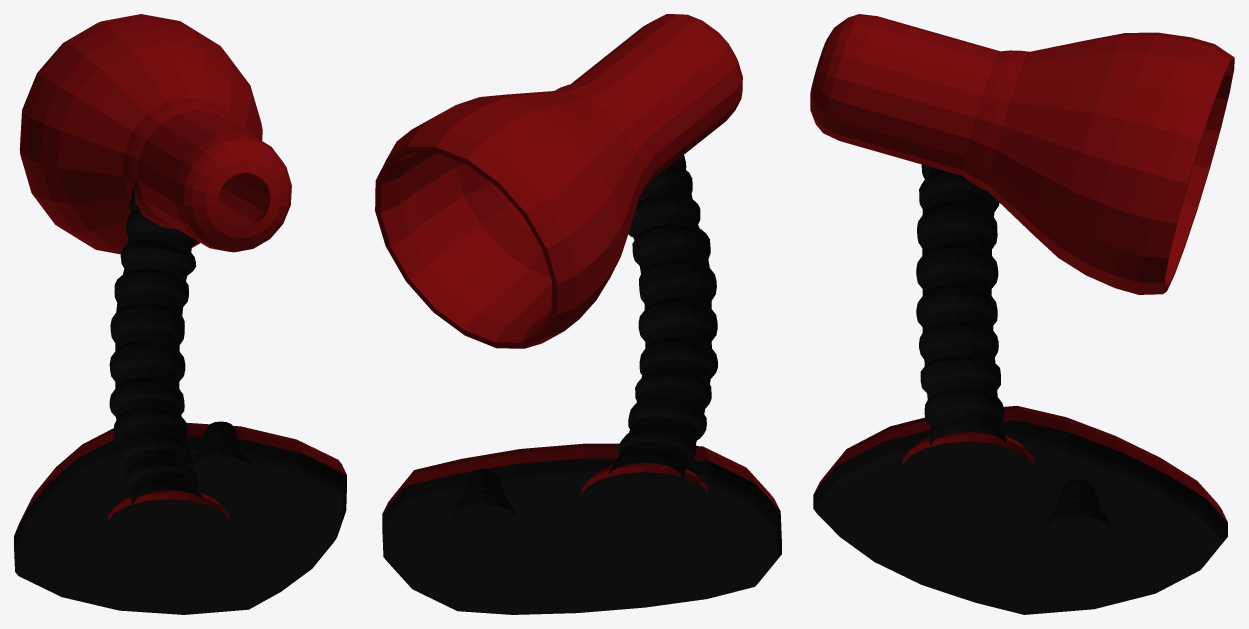
File: lamp.fbx
3 views of the same model, side by side, from view 1: azimuth 30°, elevation 25°; view 2: azimuth 150°, elevation 25°; view 3: azimuth 270°, elevation 25° (orthographic). The views are drawn at different scales.
Visible parts, largest first — view 1: lamp 2, lamp; view 2: lamp 2, lamp; view 3: lamp 2, lamp.
Part boxes in pixels (box(x1,y1,x2,y2)): lamp 2: box(14, 185, 346, 614); lamp: box(19, 14, 291, 254); lamp 2: box(382, 149, 781, 614); lamp: box(375, 14, 742, 348); lamp 2: box(813, 164, 1227, 614); lamp: box(810, 14, 1234, 294).
Bounding box in the file's own units: 9.4 × 12.23 × 9.5.
